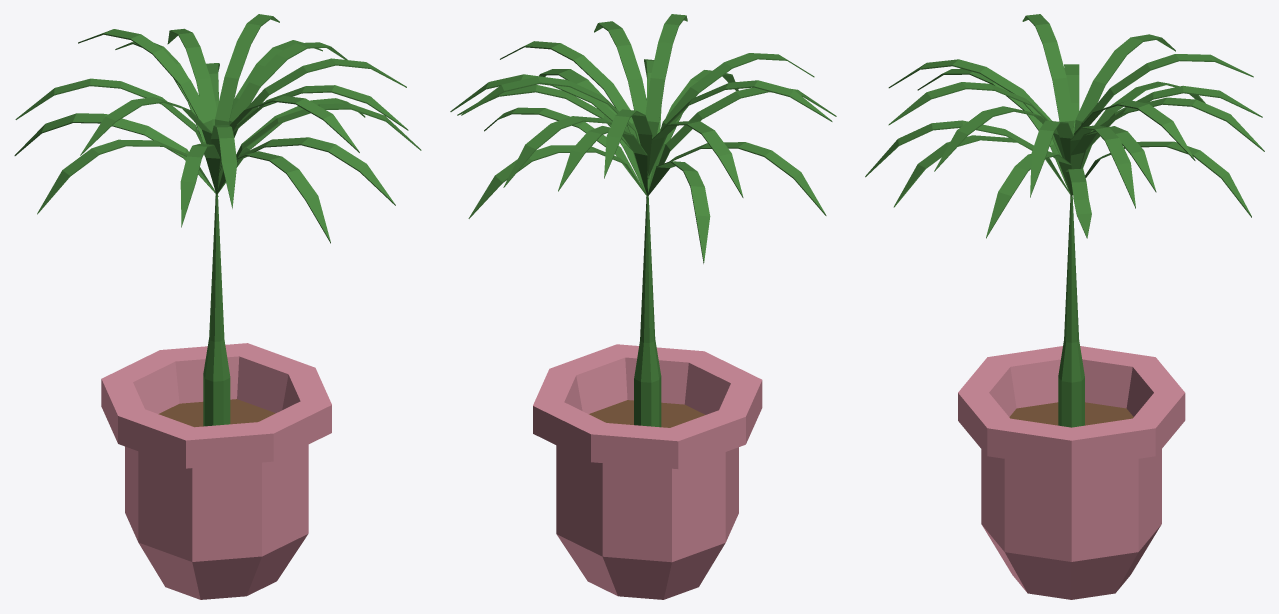
Rendered from Plant.fbx.
3 views of the same model, side by side, from view 1: azimuth 30°, elevation 25°; view 2: azimuth 150°, elevation 25°; view 3: azimuth 270°, elevation 25° (orthographic).
Visible parts, largest first — view 1: Plant; view 2: Plant; view 3: Plant.
Part boxes in pixels (left/top/right/bottom): Plant: left=14, top=14, right=421, bottom=599; Plant: left=450, top=14, right=836, bottom=599; Plant: left=865, top=14, right=1264, bottom=599.
Bounding box in the file's own units: 86.4 × 85.98 × 120.
